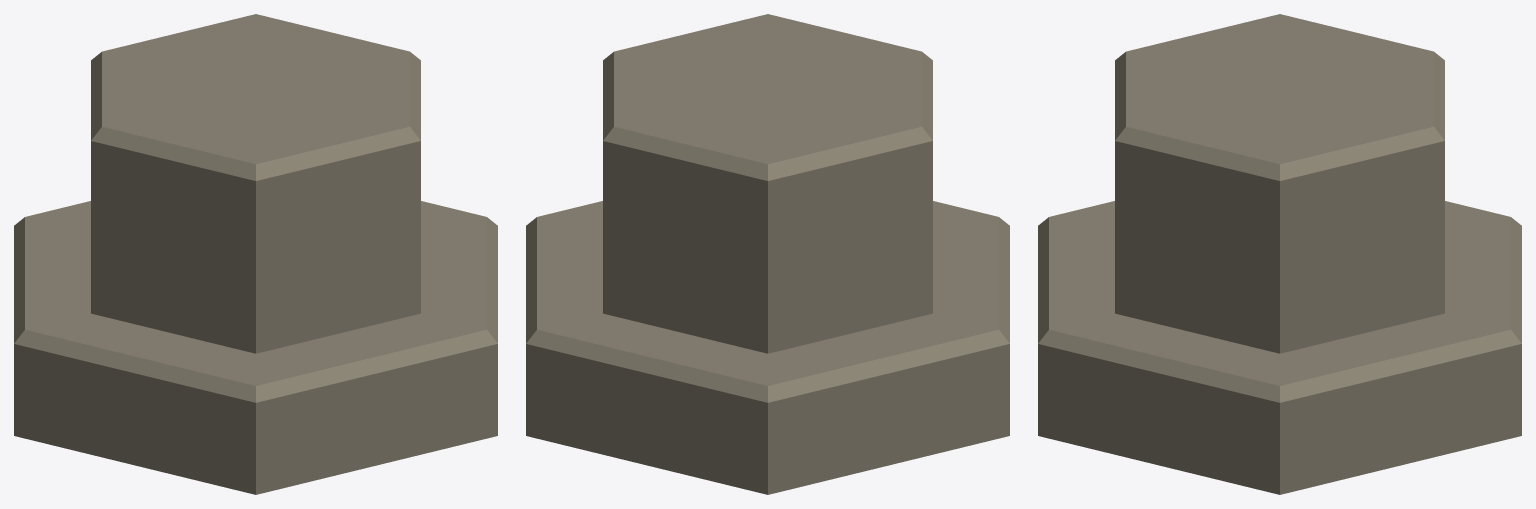
Rendered from fuel-tap-stepped-hex-cap-visible-v1.glb.
3 renders of one model, left to right at view 1: azimuth 30°, elevation 25°; view 2: azimuth 150°, elevation 25°; view 3: azimuth 270°, elevation 25°, orthographic.
Parts seen in each view (by area): view 1: EXTERIOR_CHILD; view 2: EXTERIOR_CHILD; view 3: EXTERIOR_CHILD.
Part boxes in pixels (left/top/right/bottom): EXTERIOR_CHILD: left=14, top=14, right=497, bottom=494; EXTERIOR_CHILD: left=526, top=14, right=1009, bottom=494; EXTERIOR_CHILD: left=1038, top=14, right=1521, bottom=494.
Size of the model in its own units: 0.022 by 0.0125 by 0.0191.
